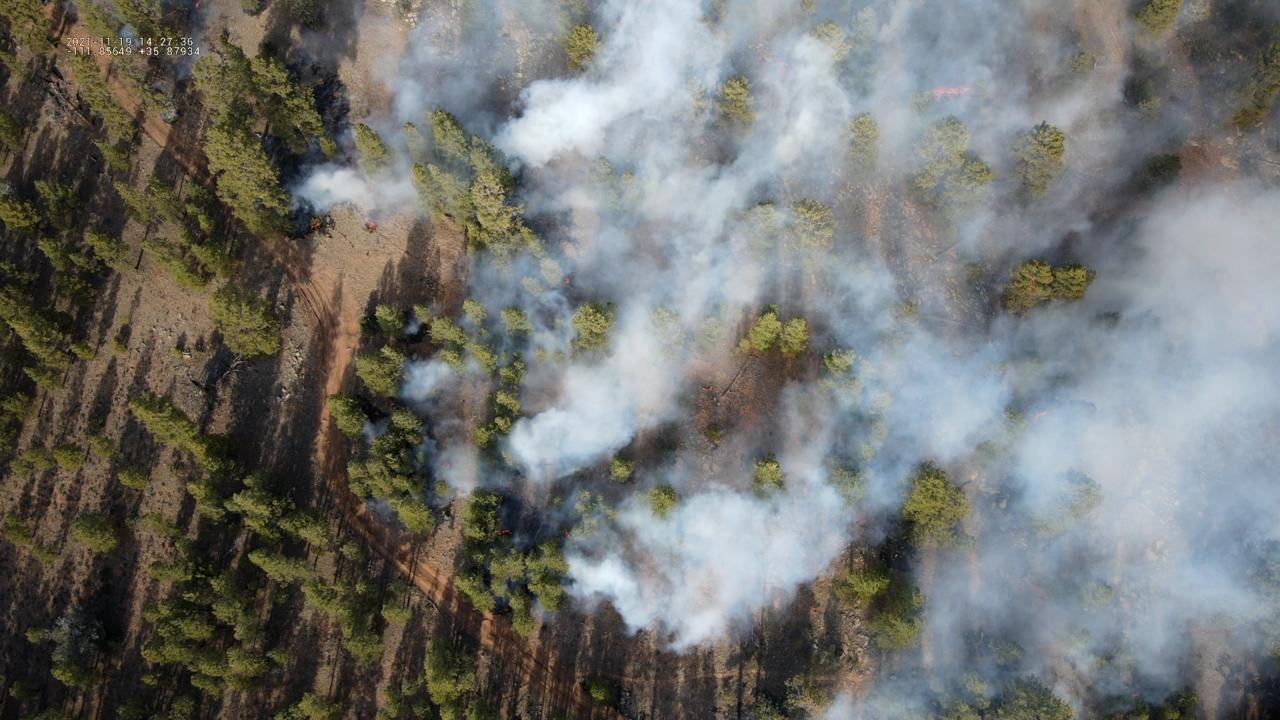fire: (930, 84, 971, 98), (311, 216, 323, 230), (1034, 409, 1052, 418), (194, 0, 202, 10), (368, 221, 376, 229), (564, 277, 572, 285), (565, 530, 571, 539), (501, 529, 511, 534)
smoke: (287, 0, 1280, 720), (177, 0, 218, 81), (118, 27, 138, 45)
